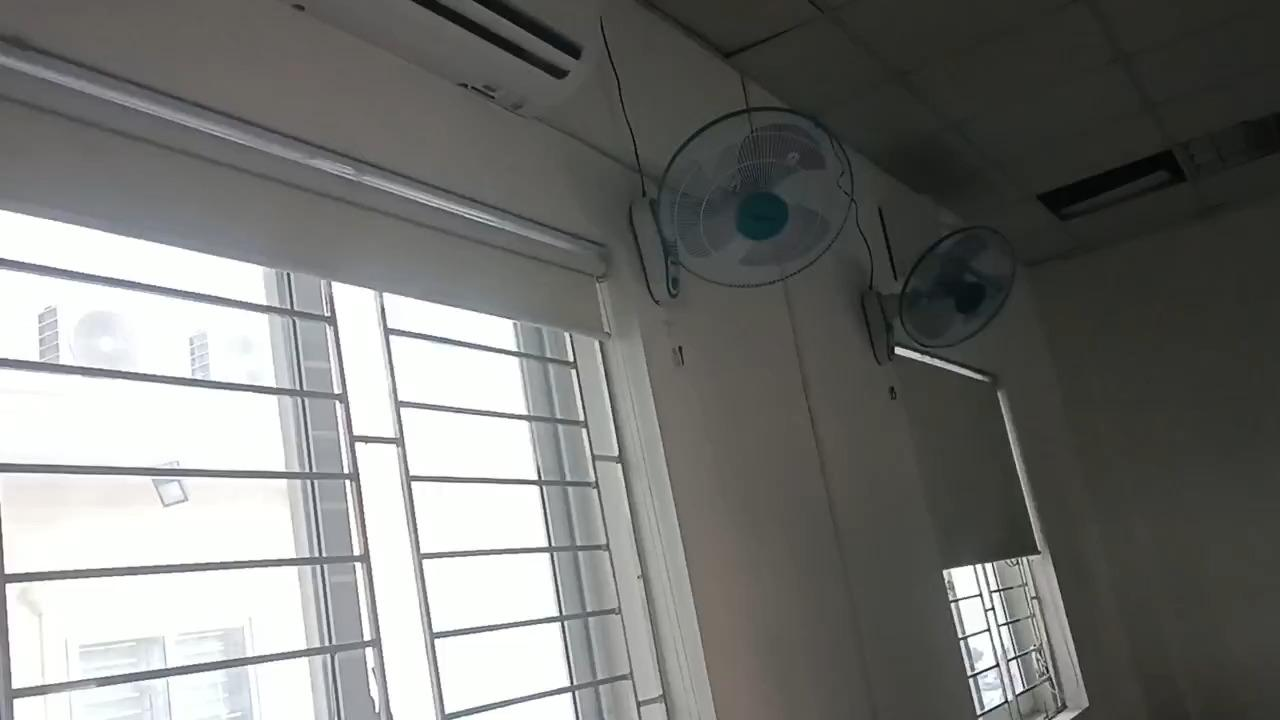fan: (617, 82, 863, 311), (847, 215, 1026, 380)
